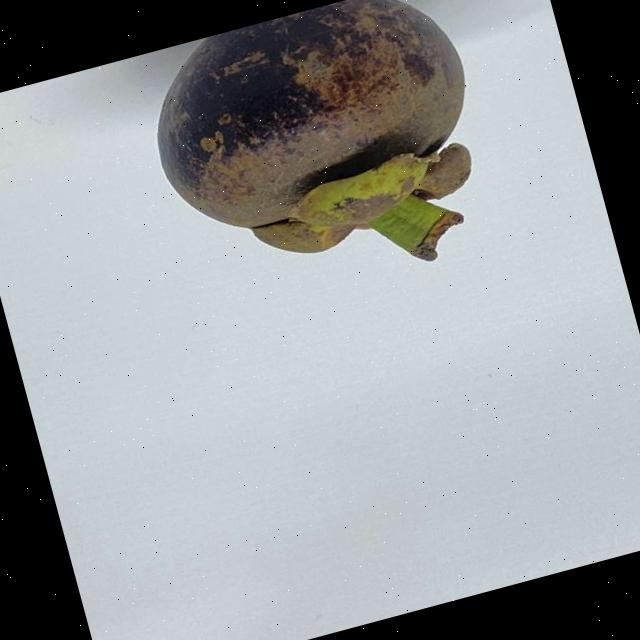mangosteen: (111, 0, 529, 328)
